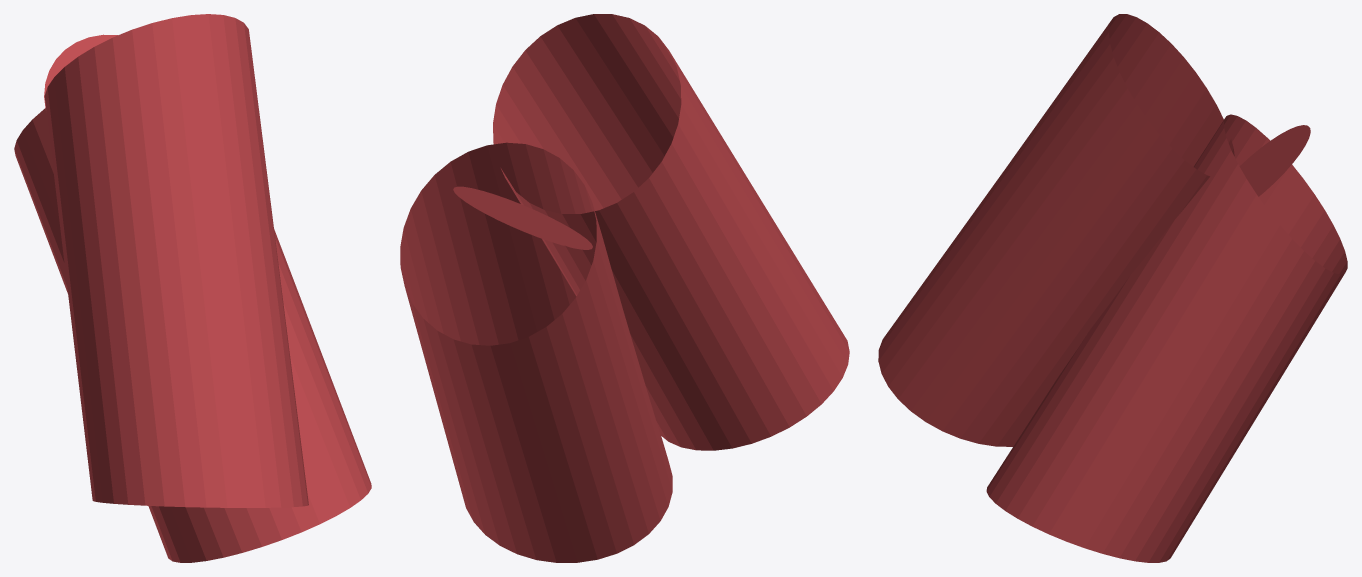
Rendered from AntCommunicatingA.fbx.
3 views of the same model, side by side, from view 1: azimuth 30°, elevation 25°; view 2: azimuth 150°, elevation 25°; view 3: azimuth 270°, elevation 25° (orthographic). The views are drawn at different scales.
Visible parts, largest first — view 1: A_AntCommunicatingA; view 2: A_AntCommunicatingA; view 3: A_AntCommunicatingA.
Boxes of the visible parts, <box> form: A_AntCommunicatingA: <box>14,14,371,562</box>; A_AntCommunicatingA: <box>400,14,849,562</box>; A_AntCommunicatingA: <box>878,14,1347,562</box>.
Size of the model in its own units: 352 by 592 by 505.
